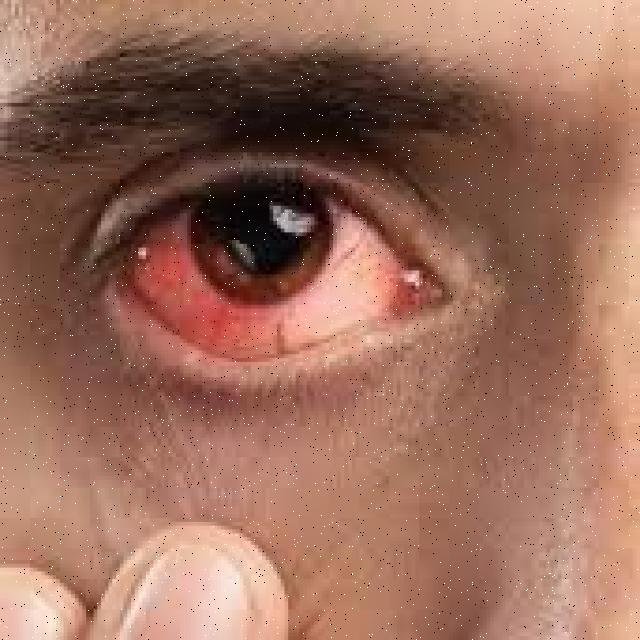Conjunctivitis: (95, 206, 454, 367)
